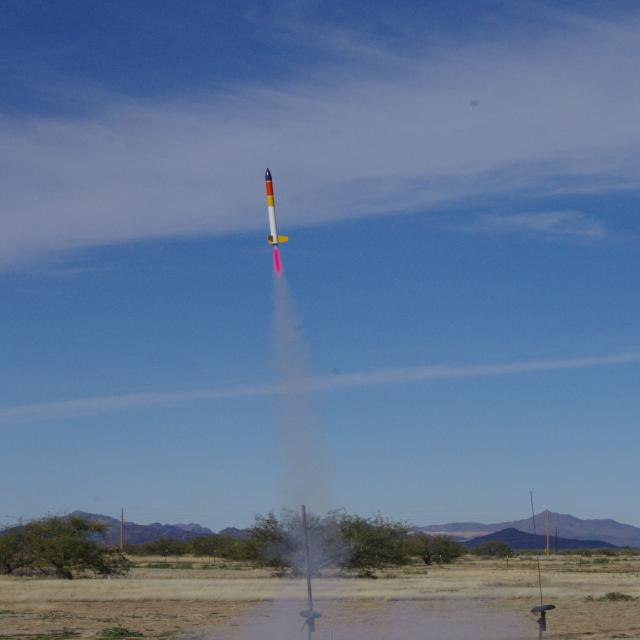Rocket: (264, 167, 289, 246)
